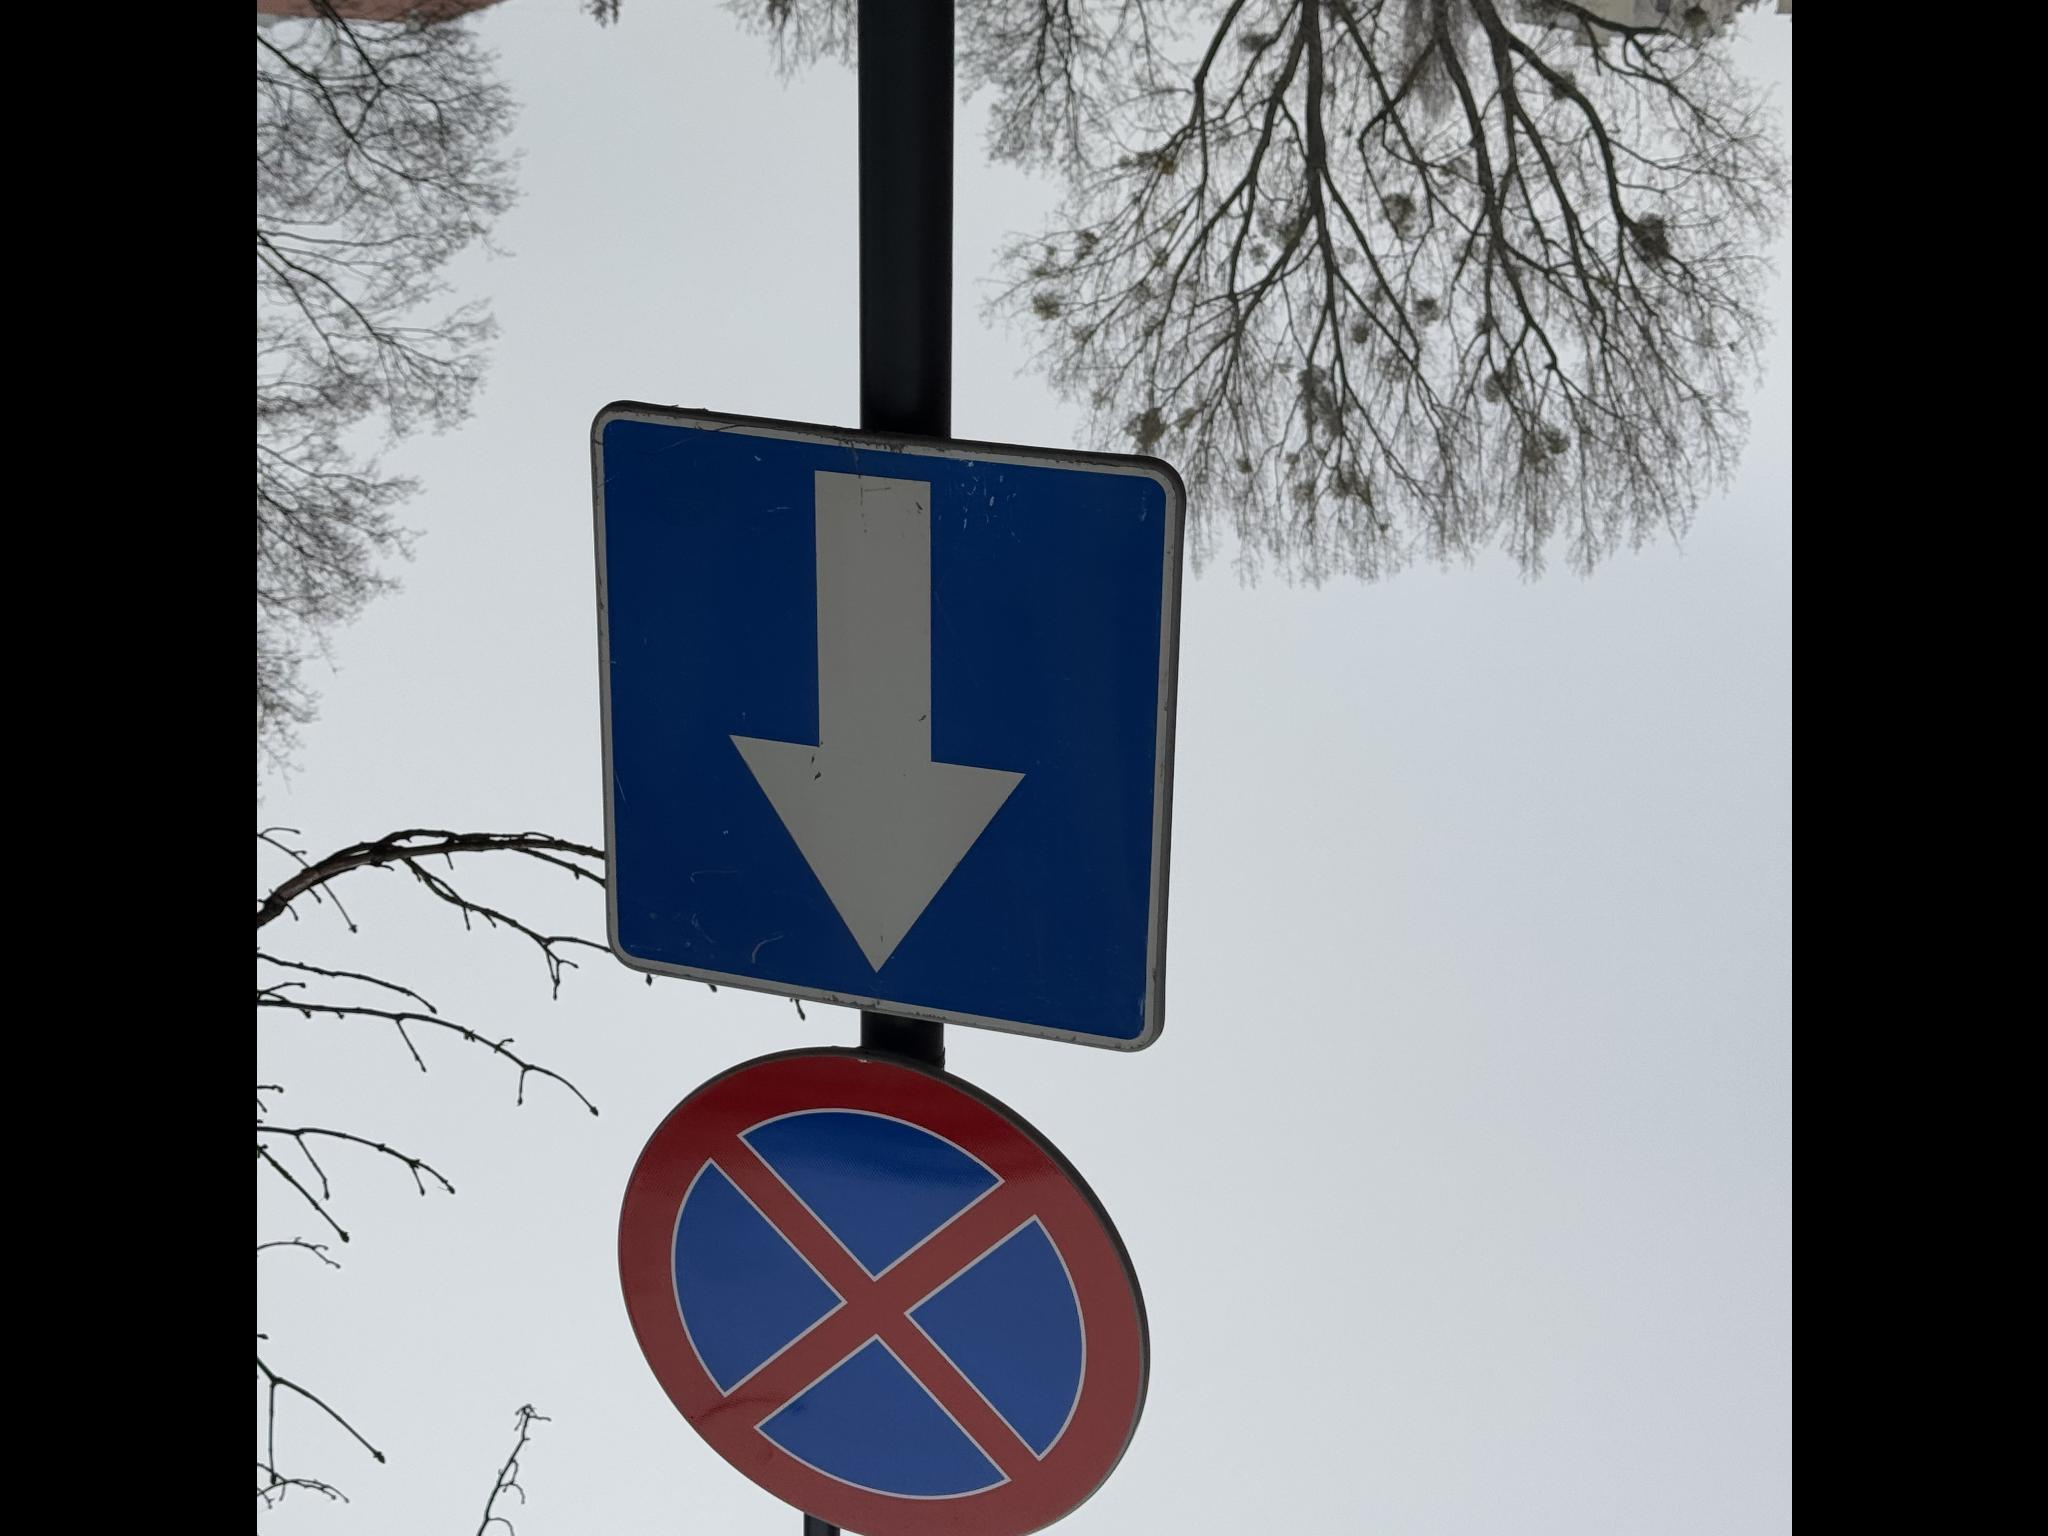information: (400, 855, 1058, 1459)
prohibitory: (1048, 892, 1556, 1439)
